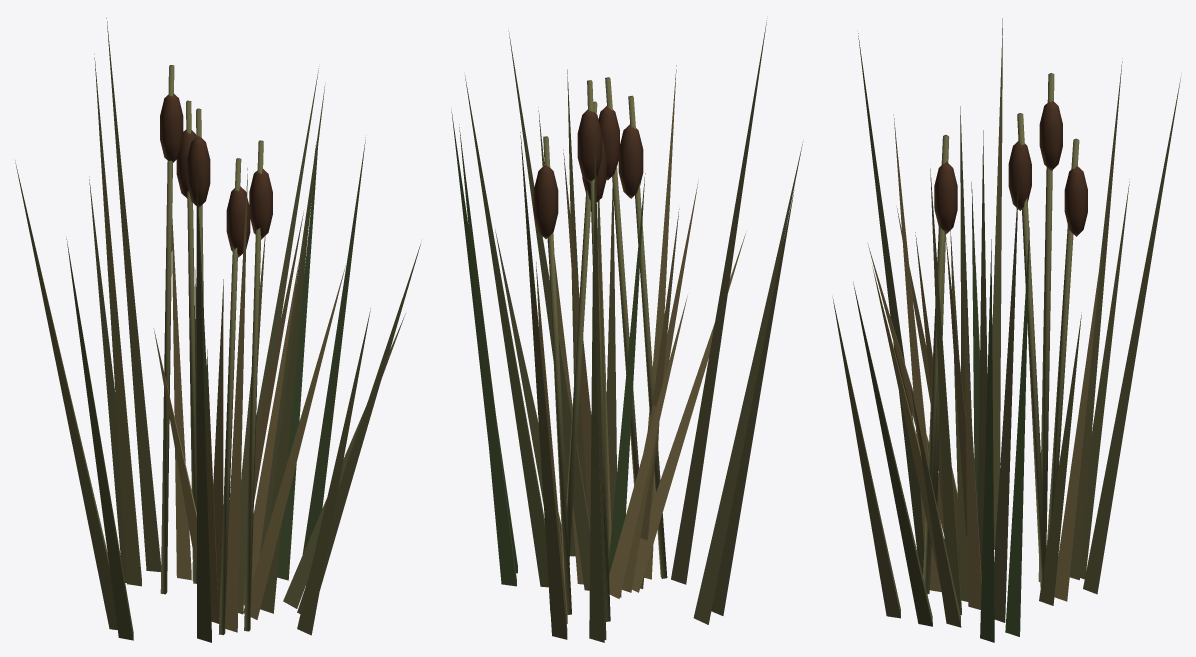
The model's file is ochert.glb.
3 renders of one model, left to right at view 1: azimuth 30°, elevation 25°; view 2: azimuth 150°, elevation 25°; view 3: azimuth 270°, elevation 25°, orthographic. The views are drawn at different scales.
Visible parts, largest first — view 1: ochert; view 2: ochert; view 3: ochert.
Part boxes in pixels (x1,y1,x2,y2): ochert: [15, 18, 420, 642]; ochert: [451, 18, 803, 642]; ochert: [832, 18, 1180, 642].
Bounding box in the file's own units: 1.29 × 1.9 × 1.14.
